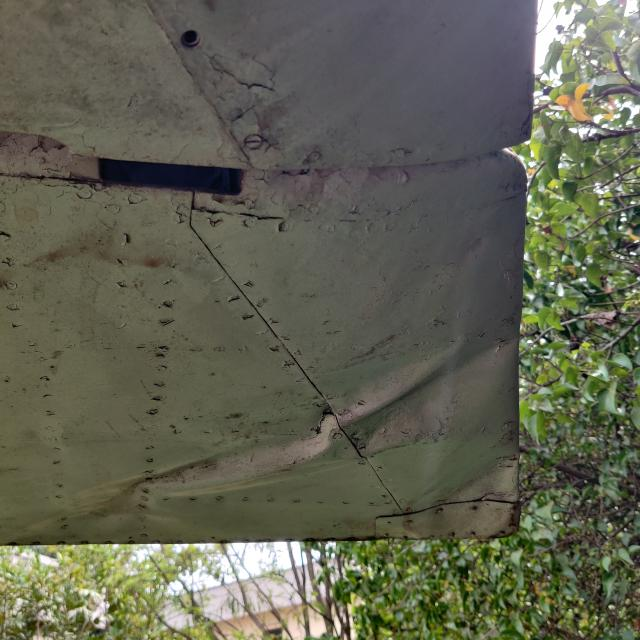crack: (306, 409, 333, 439)
dent: (258, 324, 474, 490), (22, 442, 230, 552)
